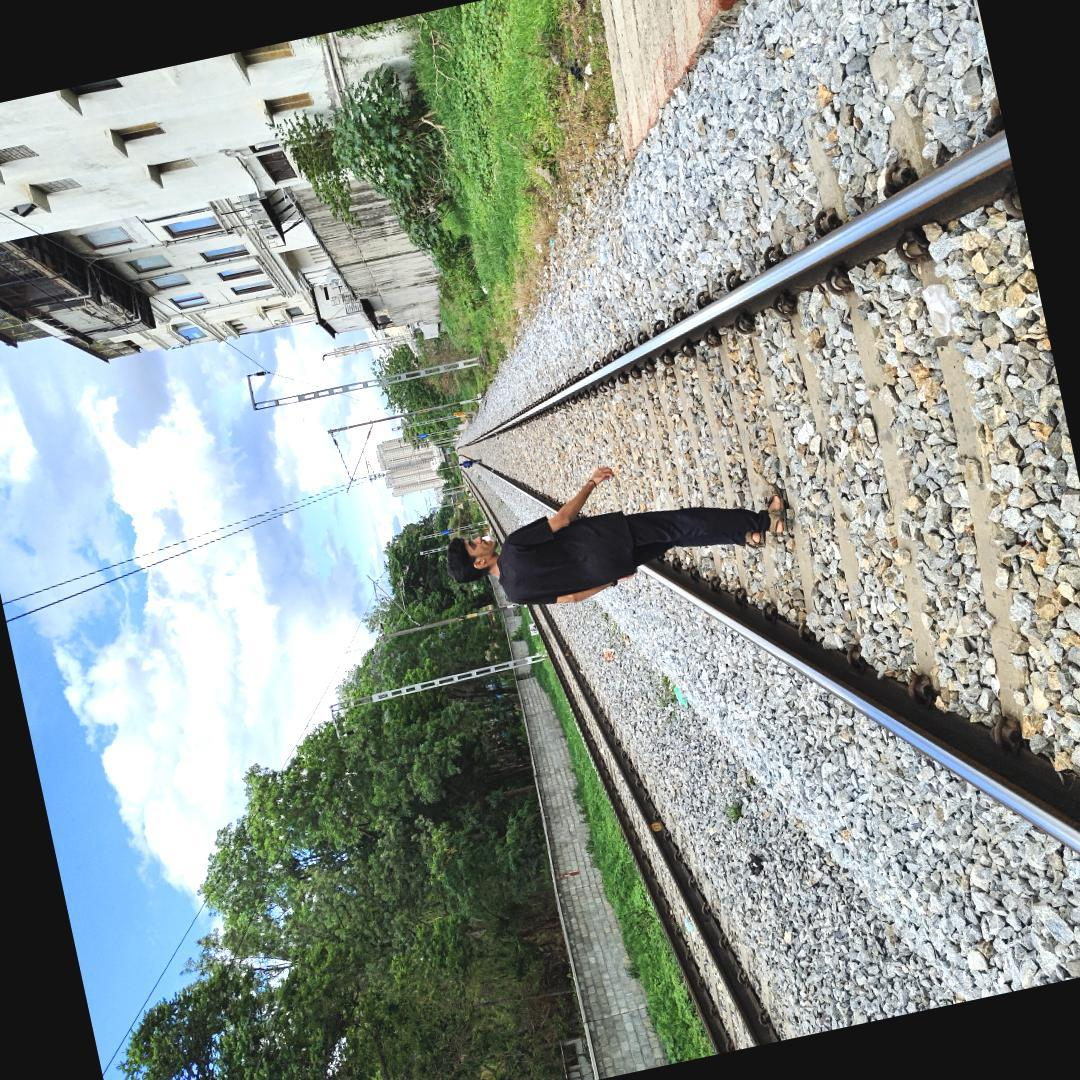standing: (434, 442, 802, 632)
